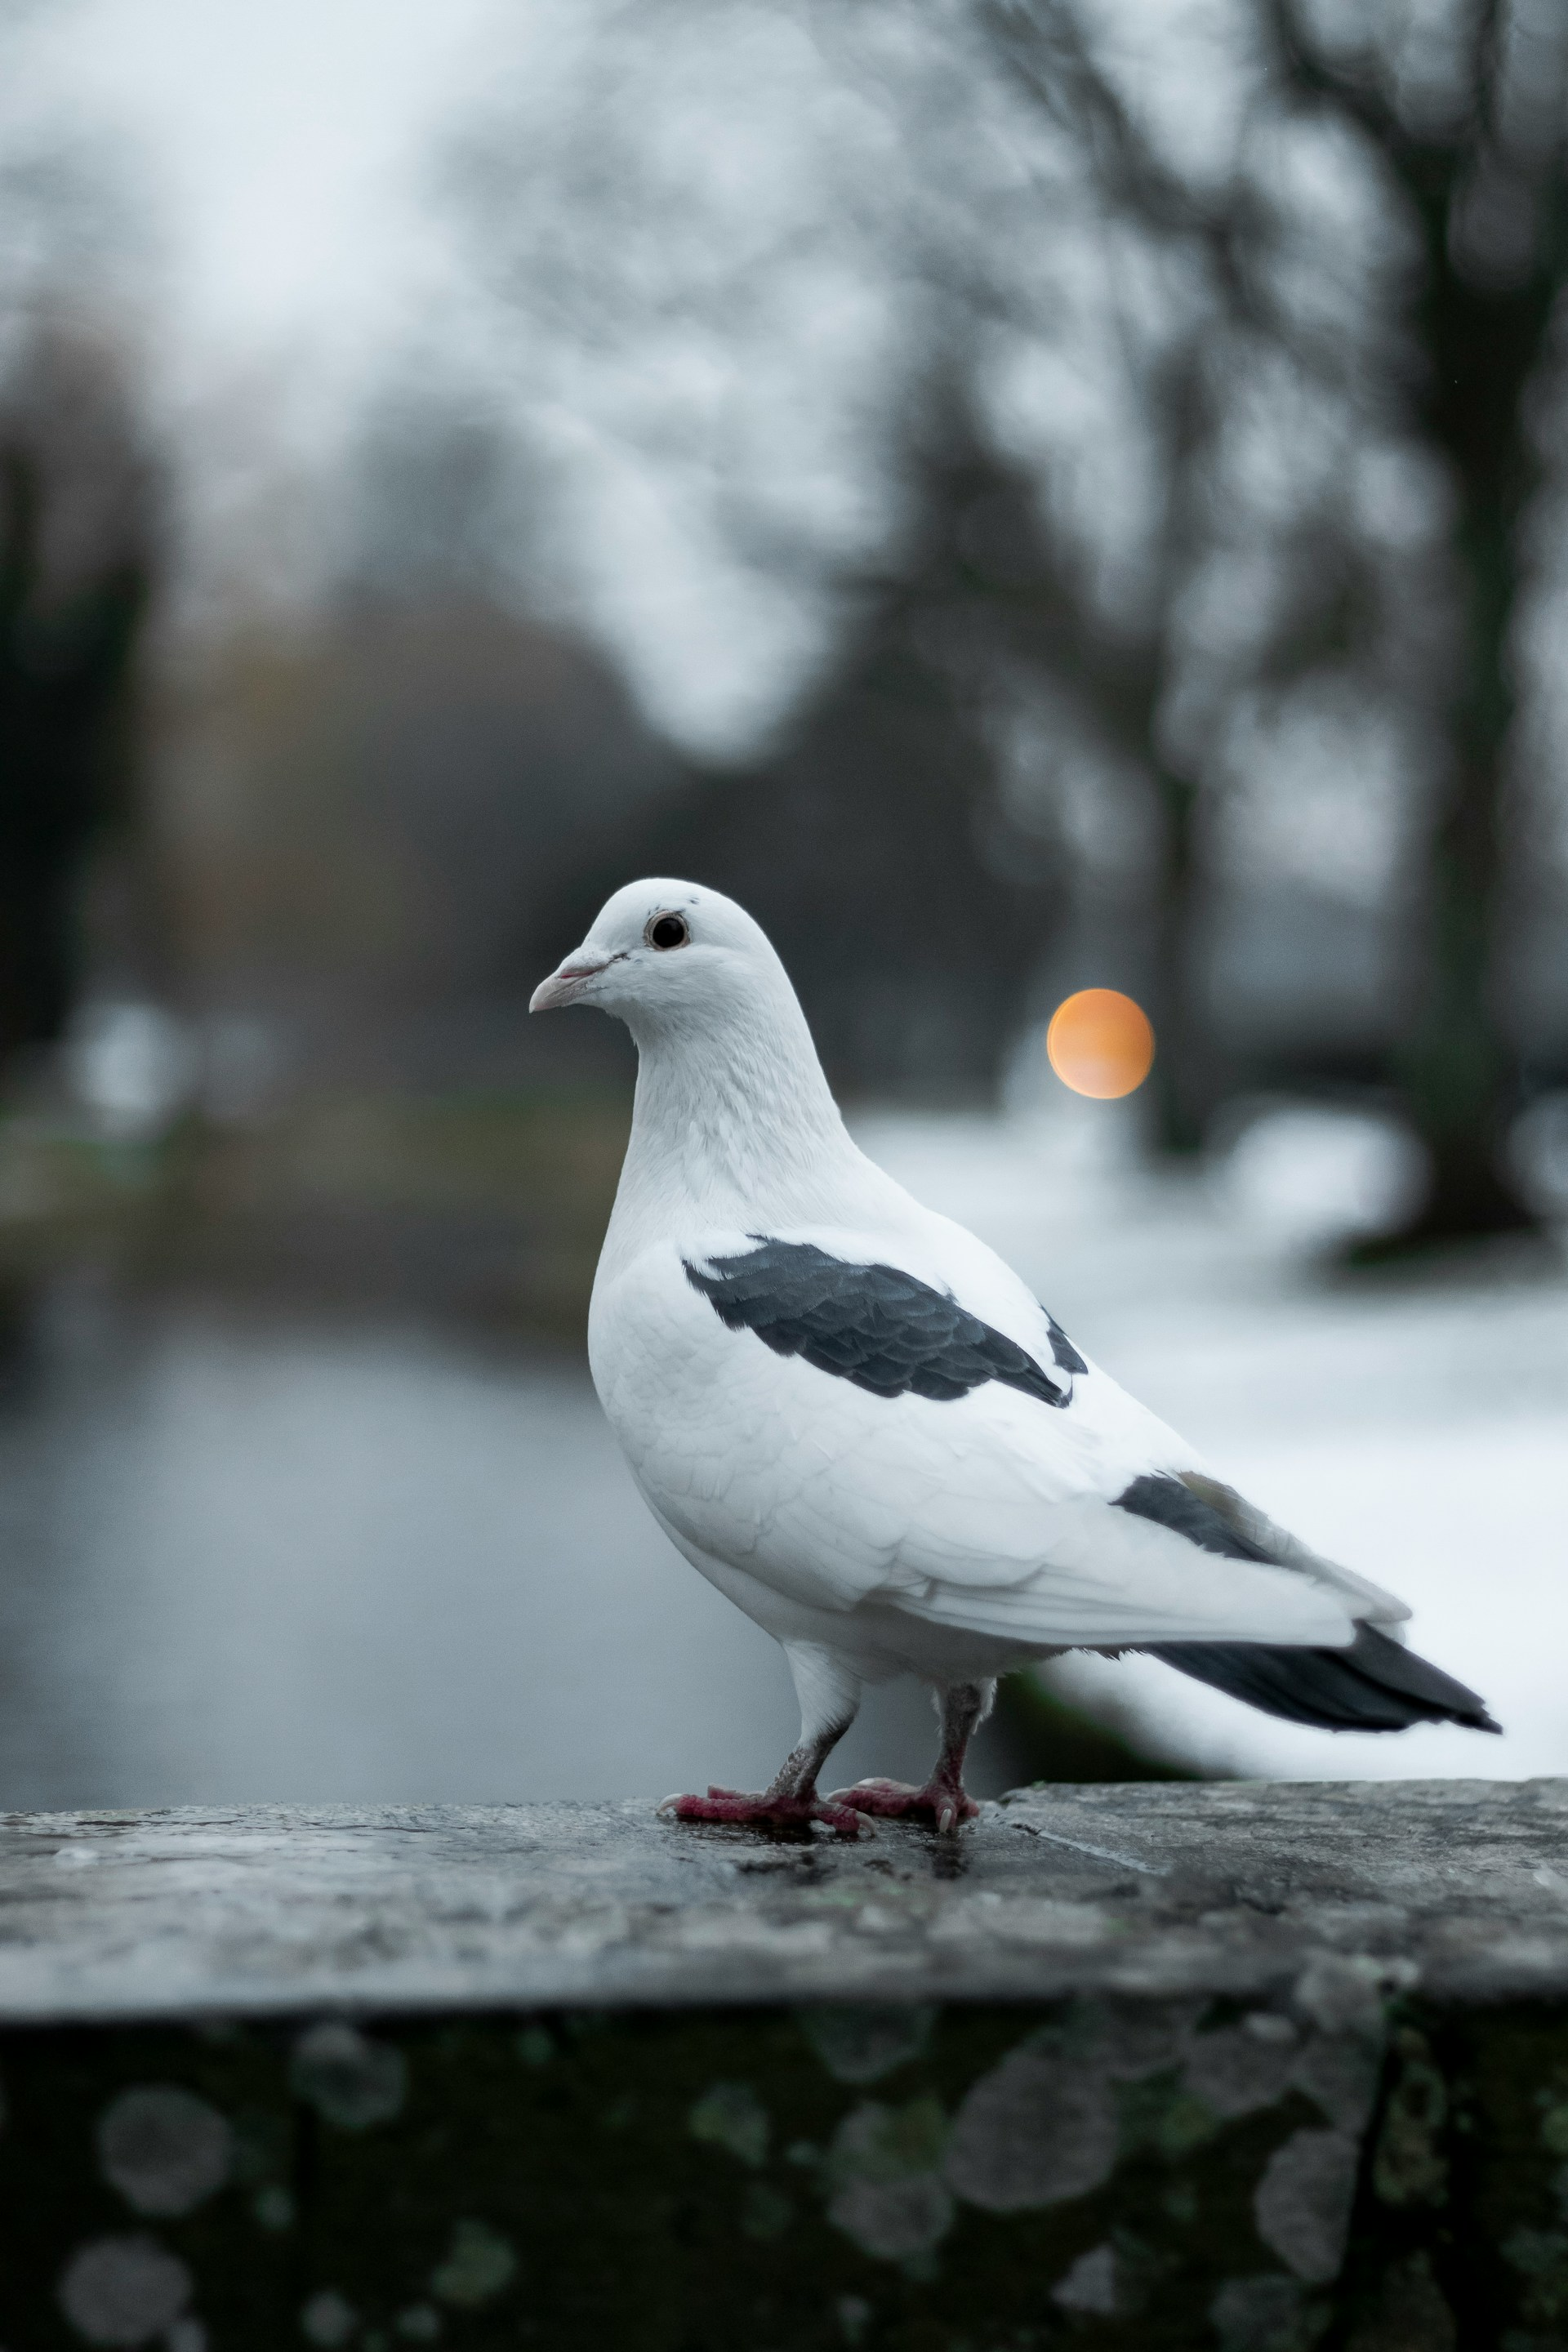pigeon: (502, 857, 1526, 1871)
